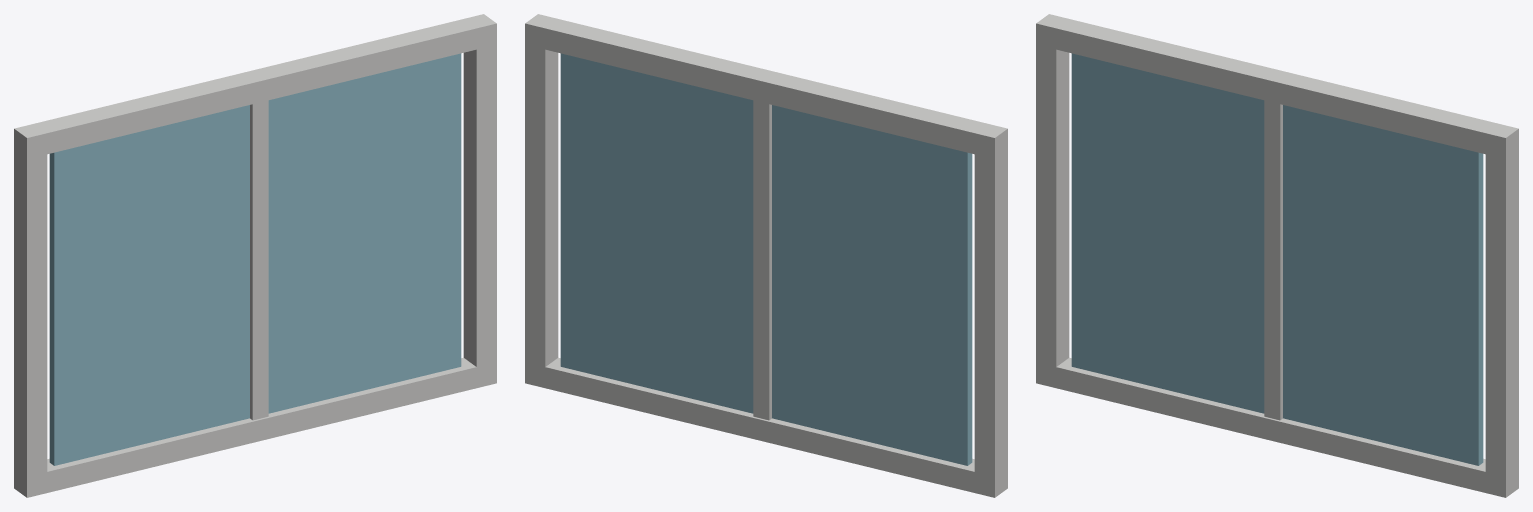
File: window.glb
3 renders of one model, left to right at view 1: azimuth 30°, elevation 25°; view 2: azimuth 150°, elevation 25°; view 3: azimuth 330°, elevation 25°, orthographic.
Visible parts, largest first — view 1: Glass_Left, Glass_Right, Frame_Top, Frame_Left, Frame_Bottom, Frame_Right, Frame_Centre; view 2: Glass_Left, Glass_Right, Frame_Top, Frame_Left, Frame_Right, Frame_Bottom, Frame_Centre; view 3: Glass_Right, Glass_Left, Frame_Top, Frame_Right, Frame_Left, Frame_Bottom, Frame_Centre.
Boxes of the visible parts, left/top/right/bottom form: Glass_Left: left=49, top=105, right=249, bottom=465; Glass_Right: left=268, top=53, right=461, bottom=413; Frame_Top: left=24, top=16, right=486, bottom=156; Frame_Left: left=14, top=124, right=47, bottom=497; Frame_Bottom: left=37, top=357, right=486, bottom=495; Frame_Right: left=463, top=14, right=496, bottom=387; Frame_Centre: left=250, top=100, right=268, bottom=420; Glass_Left: left=772, top=105, right=972, bottom=465; Glass_Right: left=560, top=53, right=753, bottom=413; Frame_Top: left=535, top=16, right=997, bottom=156; Frame_Left: left=974, top=124, right=1007, bottom=497; Frame_Right: left=525, top=14, right=558, bottom=387; Frame_Bottom: left=535, top=357, right=984, bottom=495; Frame_Centre: left=753, top=100, right=771, bottom=420; Glass_Right: left=1283, top=105, right=1483, bottom=465; Glass_Left: left=1071, top=53, right=1264, bottom=413; Frame_Top: left=1046, top=16, right=1508, bottom=156; Frame_Right: left=1485, top=124, right=1518, bottom=497; Frame_Left: left=1036, top=14, right=1069, bottom=387; Frame_Bottom: left=1046, top=357, right=1495, bottom=495; Frame_Centre: left=1264, top=100, right=1282, bottom=420.
Bounding box in the file's own units: 2.09 × 1.53 × 0.1.
